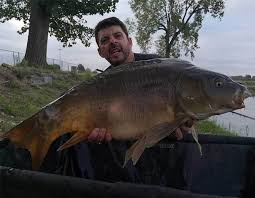carp: (3, 57, 250, 169)
